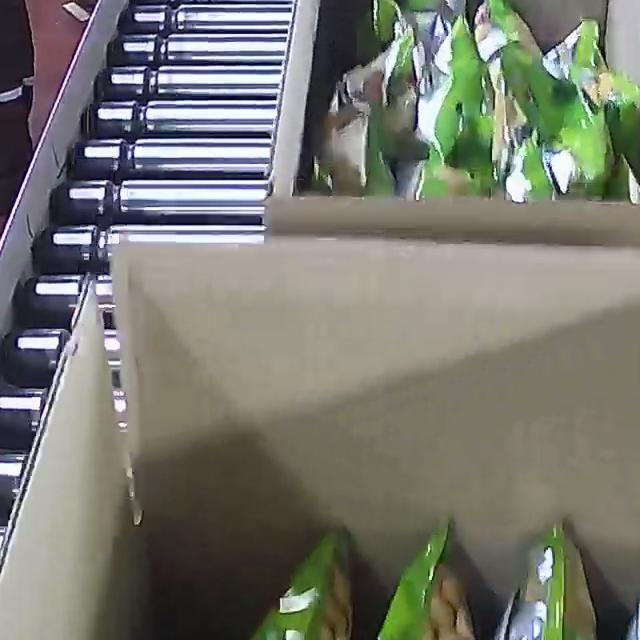yogurt: (180, 437, 640, 640), (307, 0, 640, 204)
